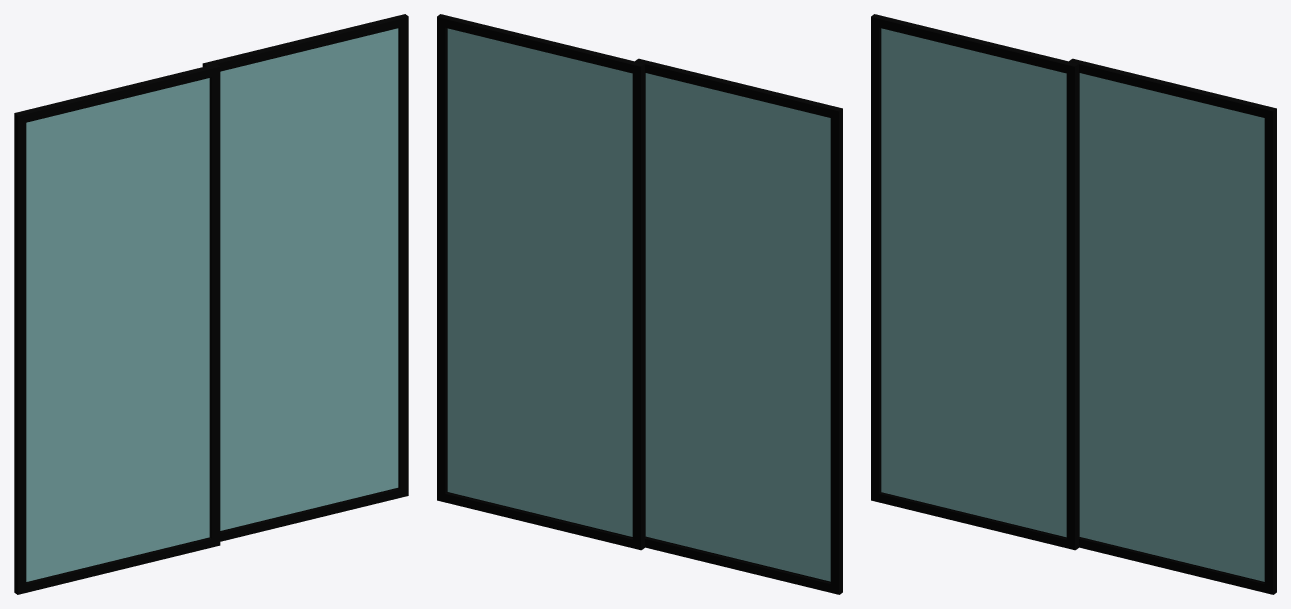
Rendered from Door_Double_Slide.fbx.
3 views of the same model, side by side, from view 1: azimuth 30°, elevation 25°; view 2: azimuth 150°, elevation 25°; view 3: azimuth 330°, elevation 25° (orthographic).
Parts seen in each view (by area): view 1: Door_Double_01_Part1_Glass, Door_Double_01_Part2_Glass, Door_Double_01_Part1, Door_Double_01_Part2; view 2: Door_Double_01_Part1_Glass, Door_Double_01_Part2_Glass, Door_Double_01_Part2, Door_Double_01_Part1; view 3: Door_Double_01_Part1_Glass, Door_Double_01_Part2_Glass, Door_Double_01_Part1, Door_Double_01_Part2.
Part boxes in pixels (x1=…): Door_Double_01_Part1_Glass: x1=26, y1=78, x2=209, y2=581; Door_Double_01_Part2_Glass: x1=220, y1=28, x2=398, y2=530; Door_Double_01_Part1: x1=14, y1=63, x2=220, y2=594; Door_Double_01_Part2: x1=202, y1=14, x2=408, y2=541; Door_Double_01_Part1_Glass: x1=645, y1=73, x2=830, y2=581; Door_Double_01_Part2_Glass: x1=447, y1=28, x2=632, y2=536; Door_Double_01_Part2: x1=437, y1=14, x2=644, y2=550; Door_Double_01_Part1: x1=635, y1=58, x2=842, y2=594; Door_Double_01_Part1_Glass: x1=881, y1=28, x2=1066, y2=537; Door_Double_01_Part2_Glass: x1=1079, y1=73, x2=1264, y2=581; Door_Double_01_Part1: x1=871, y1=14, x2=1078, y2=550; Door_Double_01_Part2: x1=1069, y1=58, x2=1276, y2=594.
Size of the model in its own units: 180 by 209 by 6.
